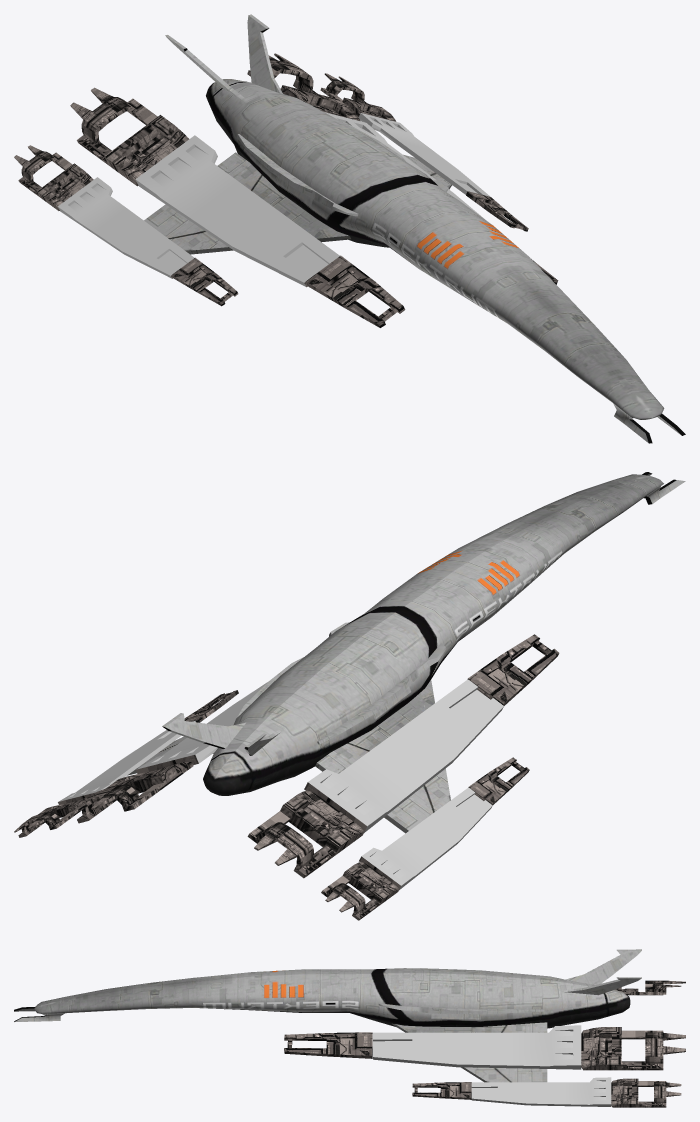
The model's file is NAVE.FBX.
3 views of the same model, one above another, from view 1: azimuth 30°, elevation 25°; view 2: azimuth 150°, elevation 25°; view 3: azimuth 270°, elevation 25° (orthographic). The views are drawn at different scales.
Parts seen in each view (by area): view 1: cuerpo_nave, Box001, Box005, ala; view 2: cuerpo_nave, Box001, Box005, ala; view 3: cuerpo_nave, Box001, Box005, ala.
Part boxes in pixels (x1,y1,x2,y2): cuerpo_nave: (165, 14, 685, 443); Box001: (70, 53, 558, 327); Box005: (14, 73, 528, 306); ala: (144, 152, 451, 254); cuerpo_nave: (162, 472, 685, 795); Box001: (70, 634, 559, 878); Box005: (14, 690, 529, 920); ala: (127, 679, 450, 833); cuerpo_nave: (14, 949, 641, 1028); Box001: (284, 980, 685, 1070); Box005: (412, 985, 681, 1107); ala: (392, 1022, 547, 1082).
Bounding box in the file's own units: 93.84 × 33.69 × 232.
